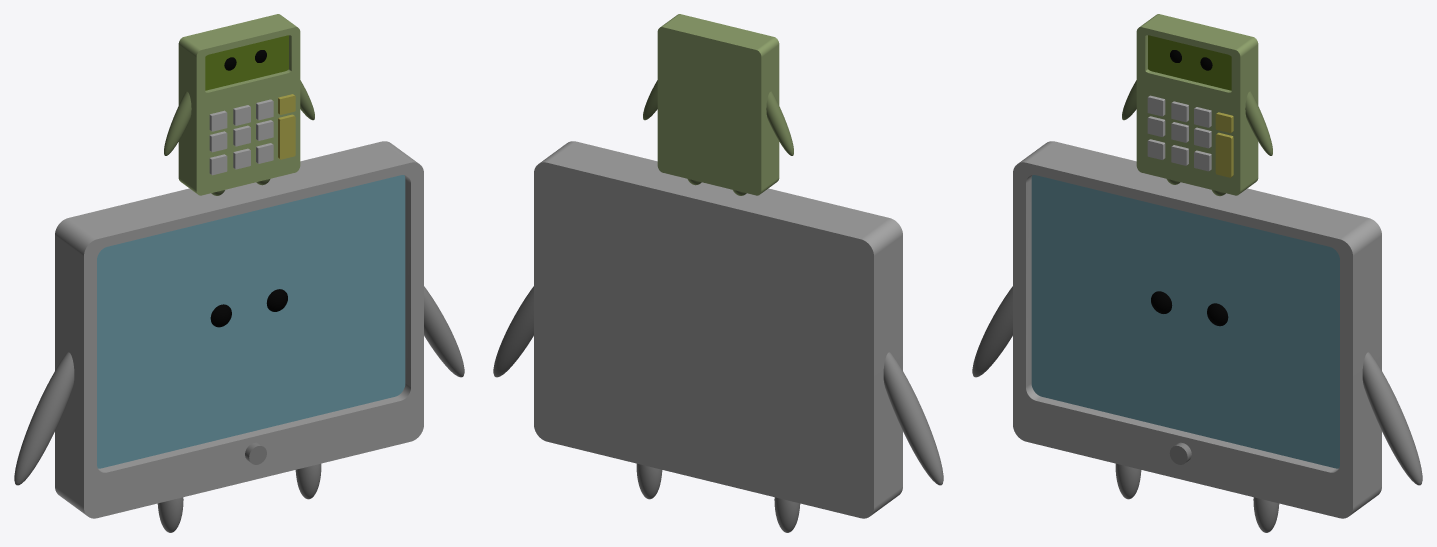
Rendered from syougyou3.glb.
3 renders of one model, left to right at view 1: azimuth 30°, elevation 25°; view 2: azimuth 150°, elevation 25°; view 3: azimuth 330°, elevation 25°, orthographic.
Parts seen in each view (by area): view 1: polySurface3, polySurface4, pSphere15, pSphere20, pSphere23, pCube17, pSphere17, pSphere14; view 2: polySurface3, polySurface4, pSphere15, pSphere20, pSphere23, pSphere17, pSphere14; view 3: polySurface3, polySurface4, pSphere20, pSphere15, pasted__pSphere4, pCube17, pSphere14, pSphere17.
Part boxes in pixels (bbox=[...]): polySurface3: bbox=[55, 141, 423, 518]; polySurface4: bbox=[178, 14, 300, 195]; pSphere15: bbox=[14, 352, 74, 485]; pSphere20: bbox=[424, 286, 464, 377]; pSphere23: bbox=[164, 91, 191, 155]; pCube17: bbox=[278, 114, 295, 159]; pSphere17: bbox=[295, 463, 321, 499]; pSphere14: bbox=[157, 497, 183, 532]; polySurface3: bbox=[534, 141, 902, 518]; polySurface4: bbox=[657, 14, 779, 195]; pSphere15: bbox=[883, 352, 943, 485]; pSphere20: bbox=[493, 286, 533, 377]; pSphere23: bbox=[766, 91, 793, 155]; pSphere17: bbox=[636, 463, 662, 499]; pSphere14: bbox=[774, 497, 800, 532]; polySurface3: bbox=[1013, 141, 1381, 518]; polySurface4: bbox=[1136, 14, 1258, 195]; pSphere20: bbox=[1362, 352, 1422, 485]; pSphere15: bbox=[972, 286, 1012, 377]; pasted__pSphere4: bbox=[1245, 91, 1272, 155]; pCube17: bbox=[1215, 132, 1233, 177]; pSphere14: bbox=[1115, 463, 1141, 499]; pSphere17: bbox=[1253, 497, 1279, 532].
Size of what is drawn, in the model's own units: 5.86 by 6.03 by 0.7503.
